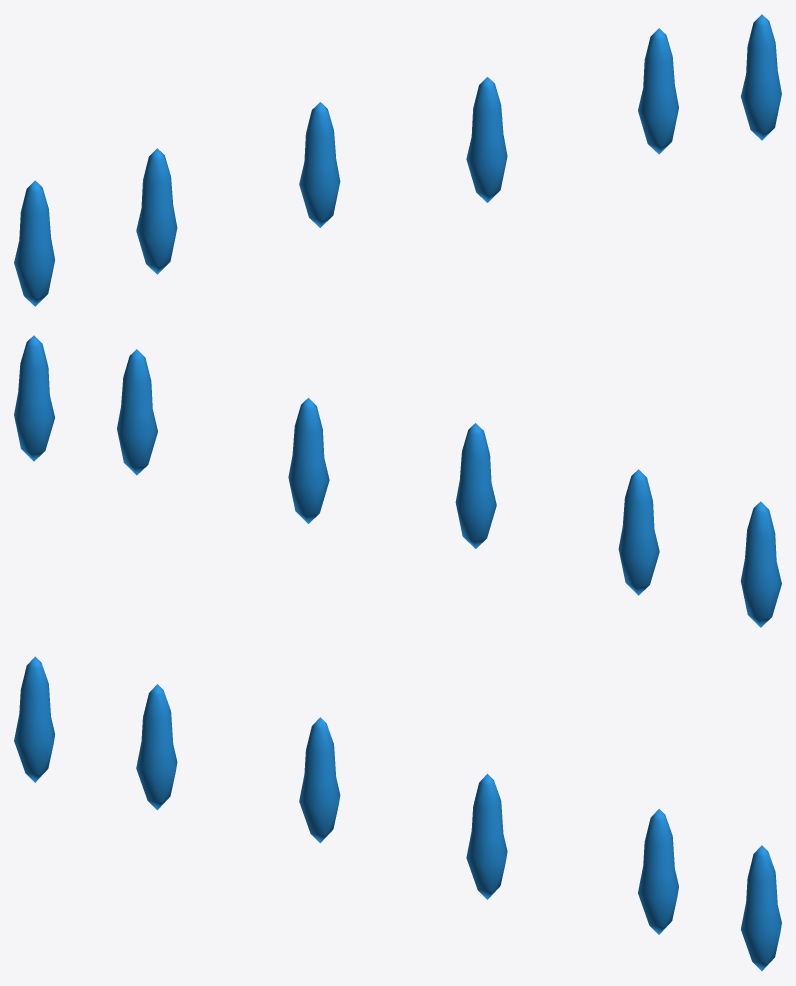
Rendered from rain drops.gltf.
The picture shows the model from 3 angles, top to bottom: view 1: azimuth 30°, elevation 25°; view 2: azimuth 150°, elevation 25°; view 3: azimuth 330°, elevation 25°; orthographic projection.
Visible parts, largest first — view 1: Icosphere.005; view 2: Icosphere.005; view 3: Icosphere.005.
Boxes of the visible parts, x1=… form: Icosphere.005: x1=14, y1=14, x2=781, y2=306; Icosphere.005: x1=14, y1=335, x2=781, y2=627; Icosphere.005: x1=14, y1=656, x2=781, y2=970.
Size of the model in its own units: 1.37 by 0.2526 by 0.0632.
